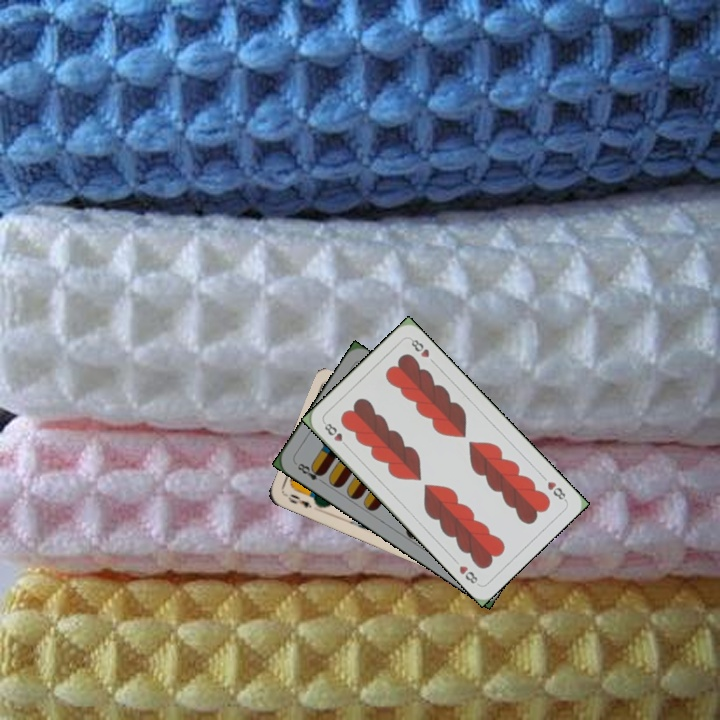E8: (291, 458, 327, 486)
EO: (284, 490, 314, 511)
H8: (320, 418, 352, 451), (543, 477, 569, 504)
